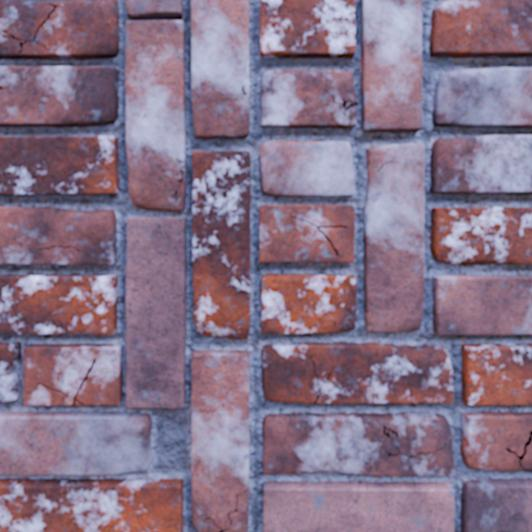brick: (263, 413, 452, 475), (262, 343, 452, 403), (126, 218, 185, 407), (126, 21, 185, 210), (364, 144, 423, 331), (193, 151, 249, 338), (192, 351, 248, 531), (0, 479, 182, 531), (263, 482, 453, 531), (0, 412, 150, 474), (191, 0, 248, 138), (361, 0, 421, 131), (0, 67, 117, 126), (0, 0, 118, 58), (0, 136, 117, 194), (0, 275, 116, 333), (0, 207, 115, 264), (24, 344, 121, 404), (433, 68, 531, 127), (430, 0, 531, 57), (433, 276, 531, 334), (430, 136, 531, 192), (430, 208, 531, 263), (261, 274, 355, 332), (260, 0, 354, 57), (261, 70, 355, 127), (259, 205, 353, 261), (259, 141, 354, 195), (462, 344, 531, 404), (461, 412, 531, 470), (461, 479, 531, 531), (0, 0, 51, 40), (0, 343, 20, 401), (126, 0, 181, 18), (228, 492, 247, 531)
crack: (0, 2, 59, 53), (36, 358, 96, 405), (203, 489, 247, 531), (310, 353, 335, 403), (324, 87, 357, 116), (173, 157, 185, 200), (240, 86, 249, 100), (527, 4, 531, 10)
